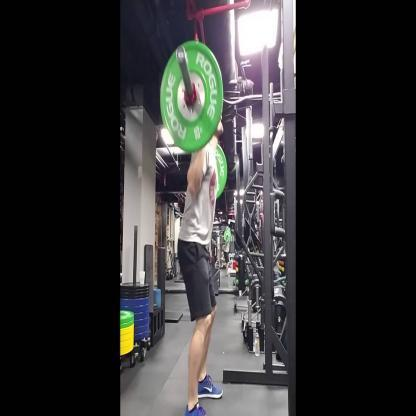barbell: (160, 39, 226, 197)
